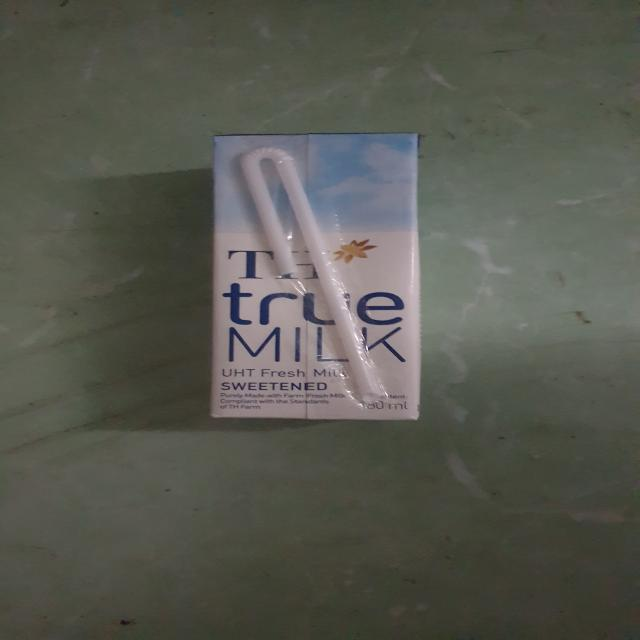TH: (213, 130, 422, 423)
